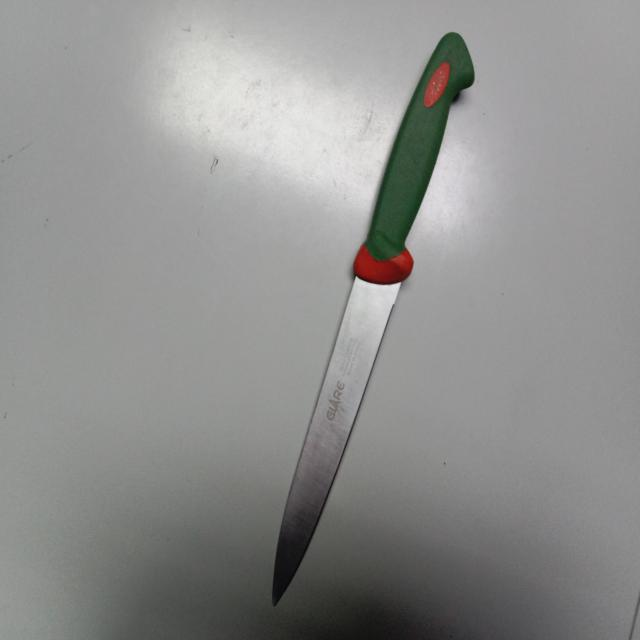Knife: (272, 31, 475, 606)
